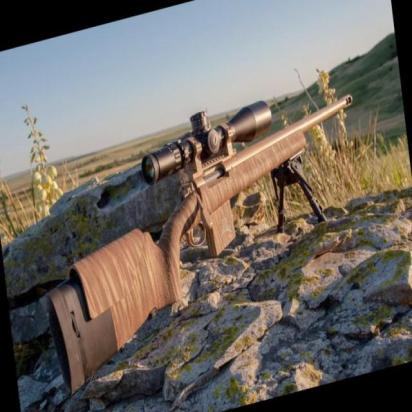Gun: (23, 80, 380, 394)
